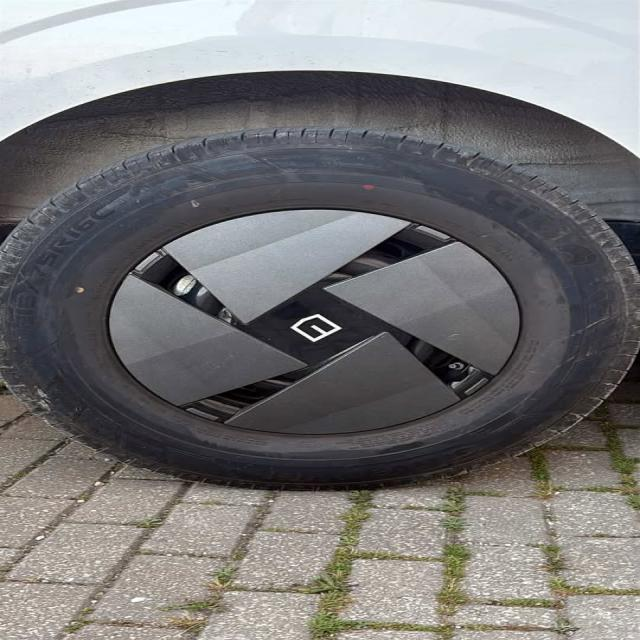jante: (108, 210, 523, 440)
roda: (0, 128, 640, 492)
